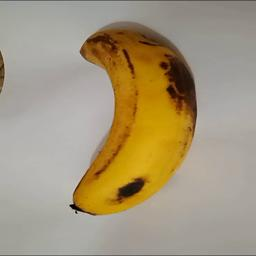Banana Semifresh: (70, 24, 202, 218)
